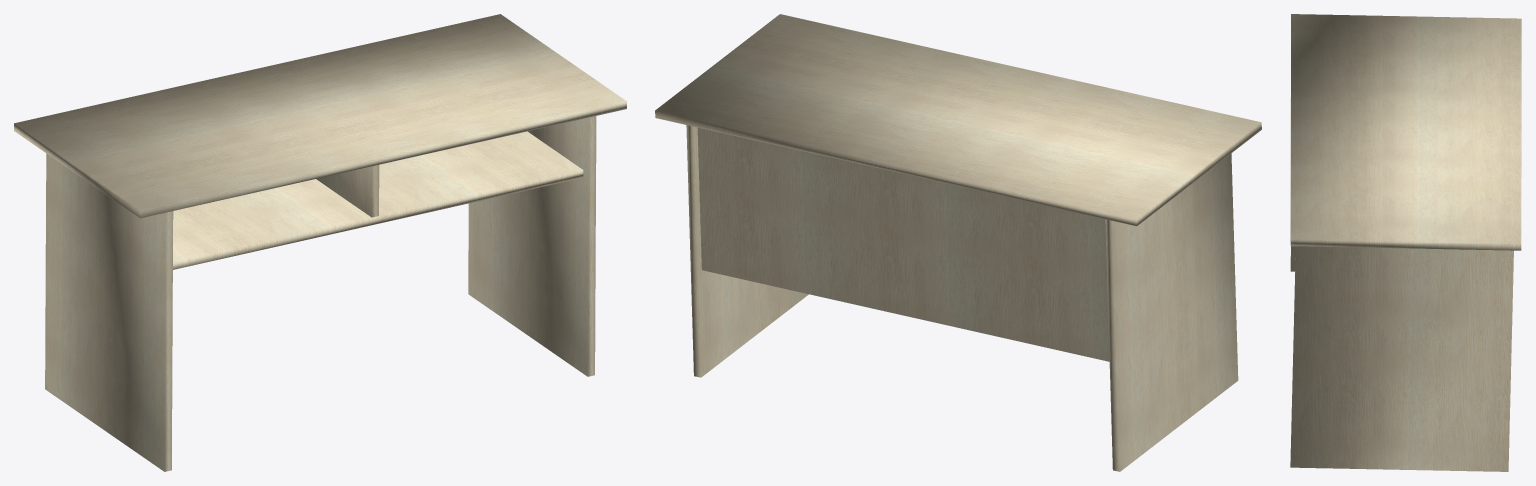
Rendered from zhuozi02.FBX.
3 views of the same model, side by side, from view 1: azimuth 30°, elevation 25°; view 2: azimuth 150°, elevation 25°; view 3: azimuth 270°, elevation 25° (orthographic). The views are drawn at different scales.
Visible parts, largest first — view 1: desk02; view 2: desk02; view 3: desk02.
Part boxes in pixels (left/top/right/bottom): desk02: left=14, top=14, right=626, bottom=471; desk02: left=655, top=14, right=1261, bottom=471; desk02: left=1290, top=14, right=1521, bottom=471.
Bounding box in the file's own units: 1.44 × 0.7921 × 0.6491.
Materials: 1 (1 with a texture image).
